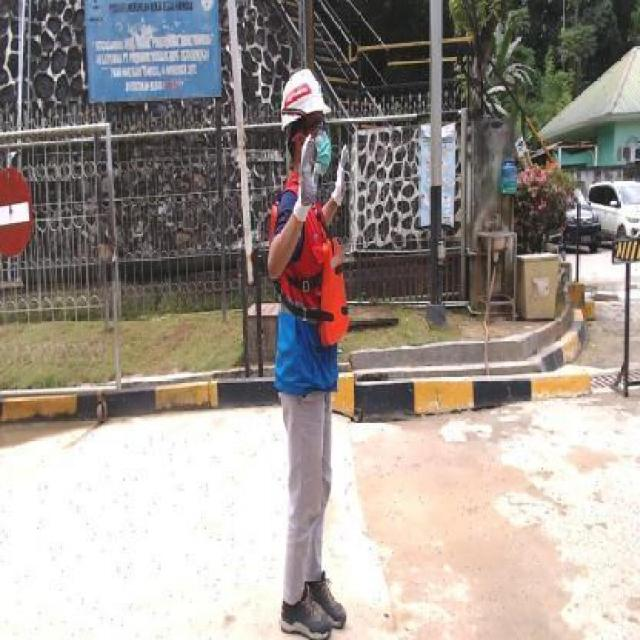Boots: (278, 586, 333, 640), (306, 569, 348, 631)
Gloves: (292, 133, 322, 222), (328, 144, 352, 208)
Helmet: (276, 68, 332, 128)
Mask: (313, 132, 332, 176)
Protective Glasses: (294, 118, 328, 136)
Vest: (318, 240, 351, 345)
